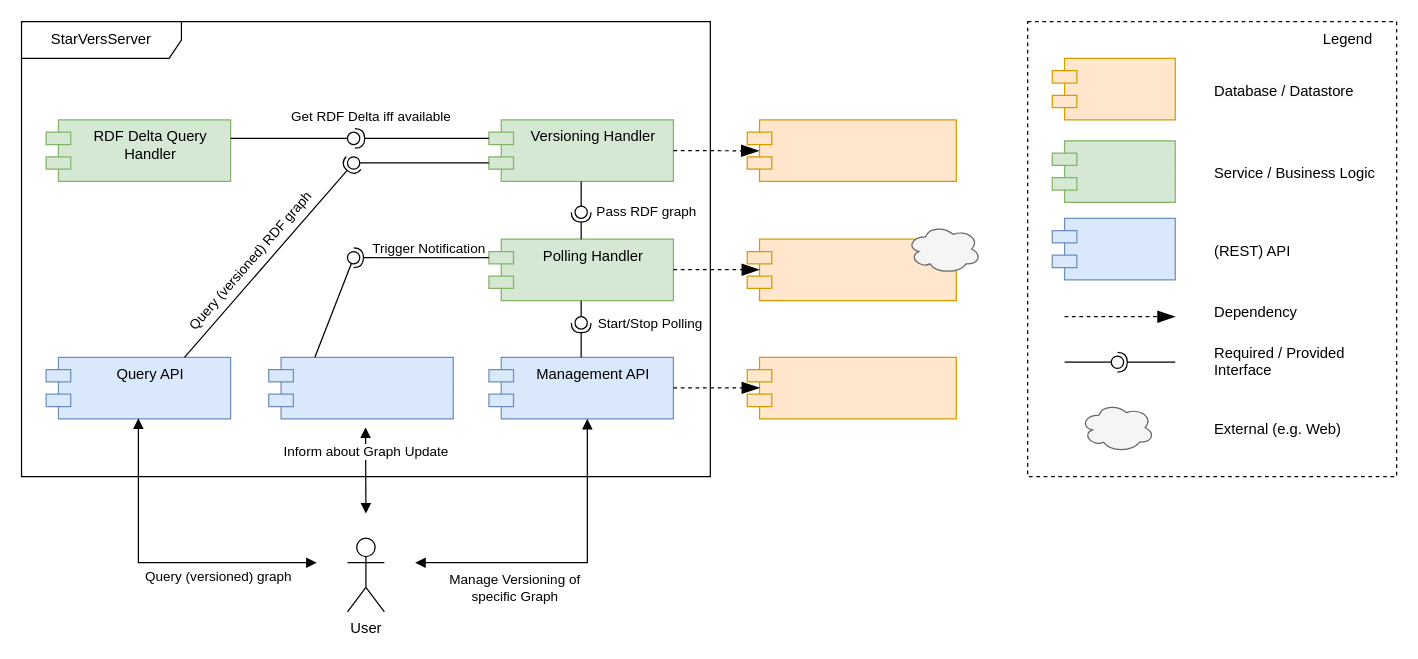
Some shapes in this 1418 by 659 pixel diagram are drawn without their labels. Here are the shapes that lost their labels. From the top down, the box of each, then its label:
(746, 119, 956, 181): RDF-star Store <<Database>>
(746, 238, 956, 301): RDF Store <<Ext. Dataset>>
(268, 356, 453, 419): Diff Event API
(746, 356, 956, 419): Management Store <<Database>>
